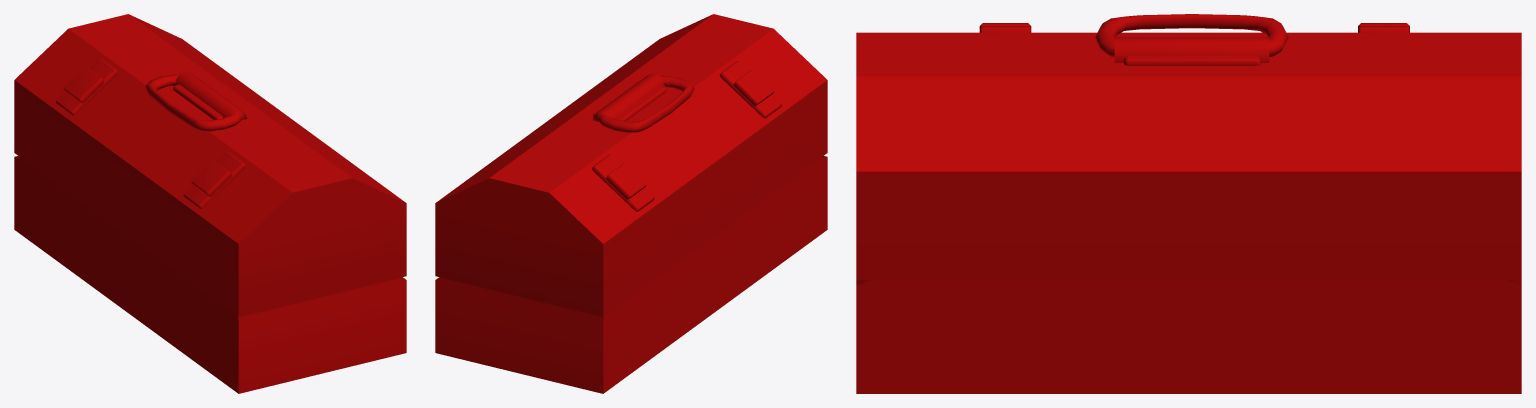
File: eines.fbx
The picture shows the model from 3 angles, left to right: view 1: azimuth 30°, elevation 25°; view 2: azimuth 150°, elevation 25°; view 3: azimuth 270°, elevation 25°; orthographic projection. The views are drawn at different scales.
Parts seen in each view (by area): view 1: pCube364, pTorus2, pCylinder13, pCube366, pCube365, pCube367, pCube368, pCube369; view 2: pCube364, pTorus2, pCylinder13, pCube365, pCube366, pCube367, pCube368, pCube369; view 3: pCube364, pTorus2, pCylinder13, pCube369.
Boxes of the visible parts, x1=… form: pCube364: x1=14, y1=14, x2=406, y2=393; pTorus2: x1=145, y1=74, x2=241, y2=131; pCylinder13: x1=174, y1=72, x2=247, y2=120; pCube366: x1=183, y1=152, x2=245, y2=208; pCube365: x1=56, y1=58, x2=118, y2=115; pCube367: x1=63, y1=66, x2=104, y2=103; pCube368: x1=191, y1=160, x2=232, y2=196; pCube369: x1=173, y1=79, x2=246, y2=119; pCube364: x1=435, y1=14, x2=827, y2=393; pTorus2: x1=598, y1=75, x2=694, y2=132; pCylinder13: x1=592, y1=73, x2=665, y2=121; pCube365: x1=592, y1=154, x2=654, y2=211; pCube366: x1=720, y1=61, x2=782, y2=118; pCube367: x1=606, y1=163, x2=646, y2=199; pCube368: x1=733, y1=69, x2=774, y2=105; pCube369: x1=593, y1=81, x2=666, y2=121; pCube364: x1=856, y1=32, x2=1521, y2=393; pTorus2: x1=1095, y1=14, x2=1288, y2=56; pCylinder13: x1=1114, y1=37, x2=1269, y2=62; pCube369: x1=1124, y1=55, x2=1260, y2=65.
Bounding box in the file's own units: 0.3087 × 0.349 × 0.7143.
